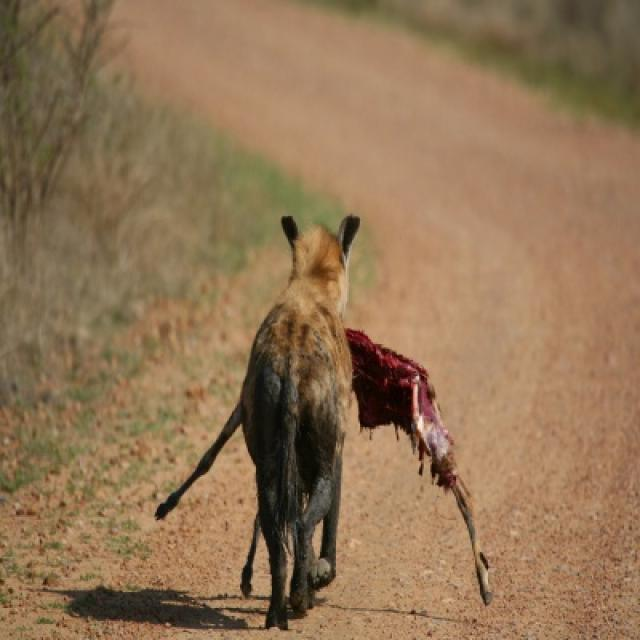hyena: (235, 214, 358, 627)
